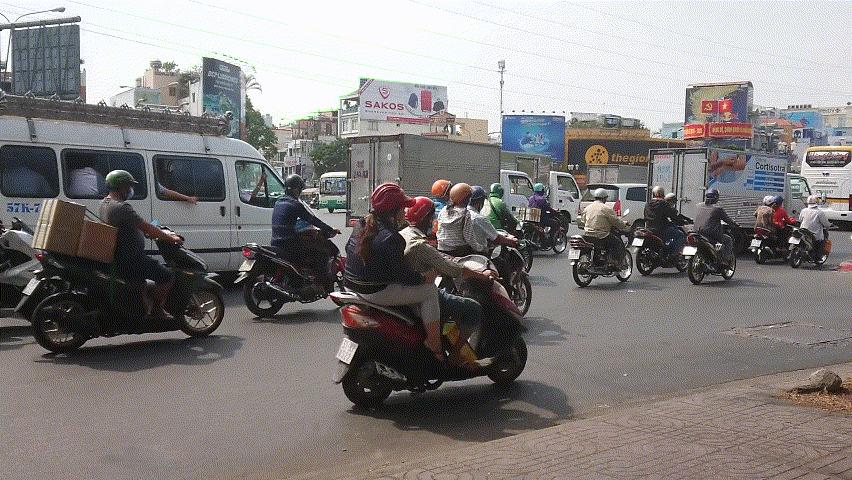driver: (329, 181, 528, 409), (13, 168, 227, 354), (234, 173, 348, 317), (566, 188, 633, 287), (681, 187, 743, 285), (632, 186, 695, 275), (787, 194, 833, 270)
helmet: (371, 182, 416, 232), (406, 195, 442, 239), (102, 169, 139, 202), (450, 182, 476, 207), (285, 172, 307, 200), (470, 185, 487, 213), (593, 189, 609, 204), (490, 182, 504, 199), (706, 188, 720, 204), (533, 182, 546, 197), (652, 185, 665, 200), (806, 194, 819, 209), (665, 193, 677, 207), (774, 194, 785, 209), (762, 195, 774, 207)
